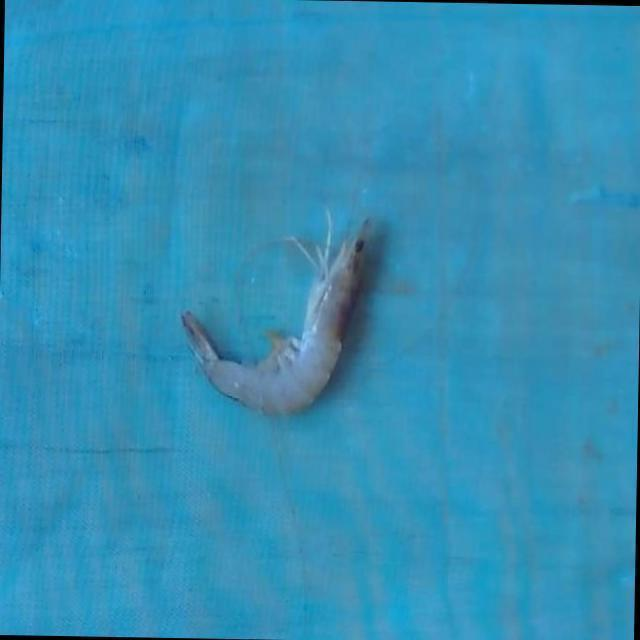shrimp: (182, 219, 367, 414)
